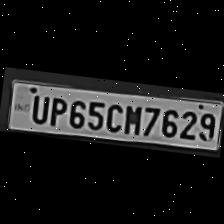2: (176, 106, 198, 140)
5: (84, 97, 106, 130)
6: (64, 96, 86, 129), (156, 105, 178, 138)
7: (138, 103, 159, 136)
9: (195, 107, 217, 141)
C: (102, 100, 124, 132)
M: (120, 101, 142, 136)
P: (45, 93, 67, 126)
U: (26, 92, 48, 124)
